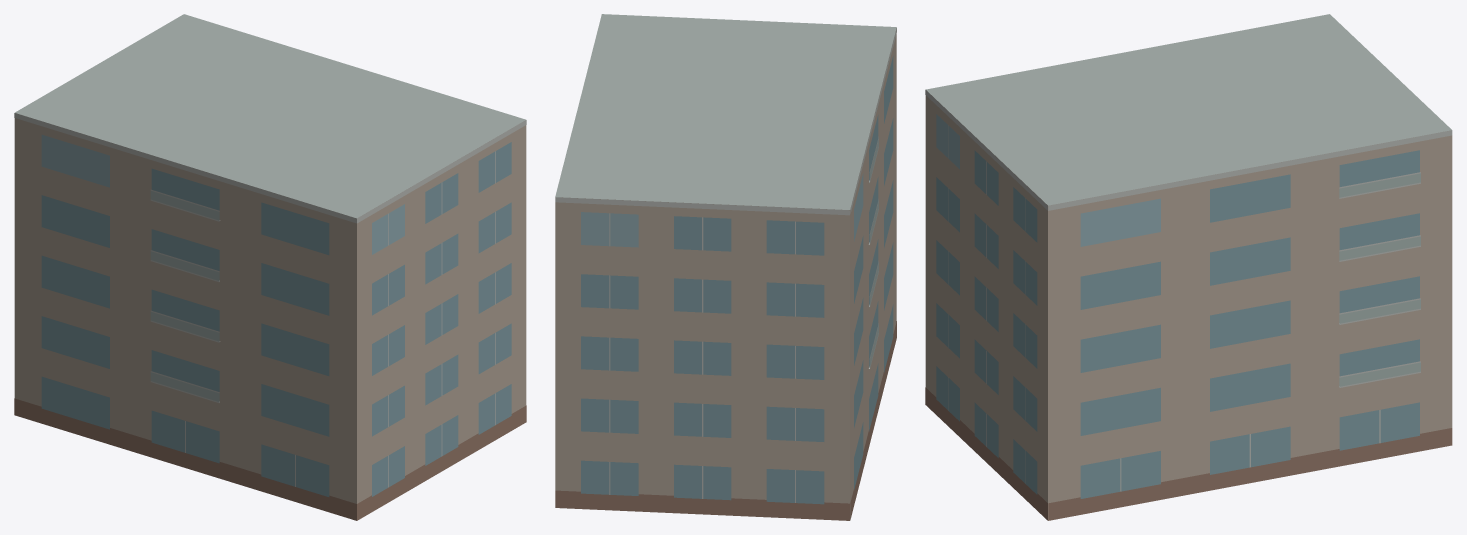
Rendered from survey-upis-32743979.glb.
3 views of the same model, side by side, from view 1: azimuth 30°, elevation 25°; view 2: azimuth 150°, elevation 25°; view 3: azimuth 270°, elevation 25° (orthographic). The views are drawn at different scales.
Visible parts, largest first — view 1: survey-upis-32743979.tmp; view 2: survey-upis-32743979.tmp; view 3: survey-upis-32743979.tmp.
Boxes of the visible parts, left/top/right/bottom form: survey-upis-32743979.tmp: left=14, top=14, right=526, bottom=520; survey-upis-32743979.tmp: left=555, top=14, right=896, bottom=520; survey-upis-32743979.tmp: left=925, top=14, right=1452, bottom=520.
Bounding box in the file's own units: 18.92 × 14.5 × 21.97.
